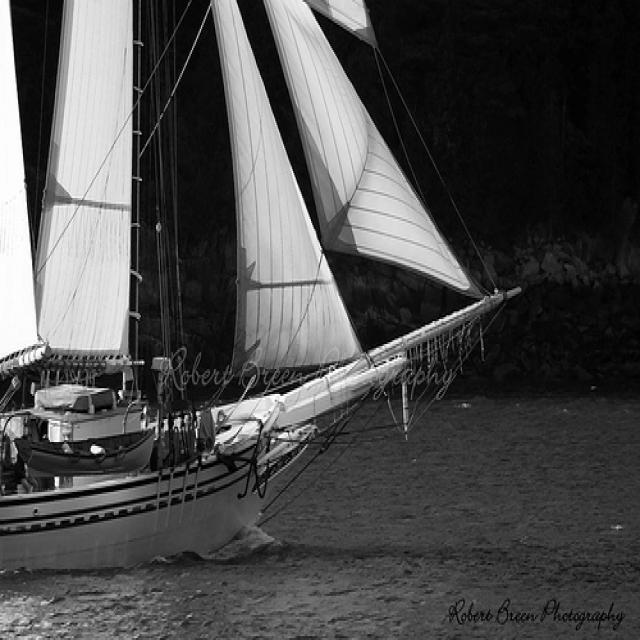Ship: (1, 1, 541, 572)
